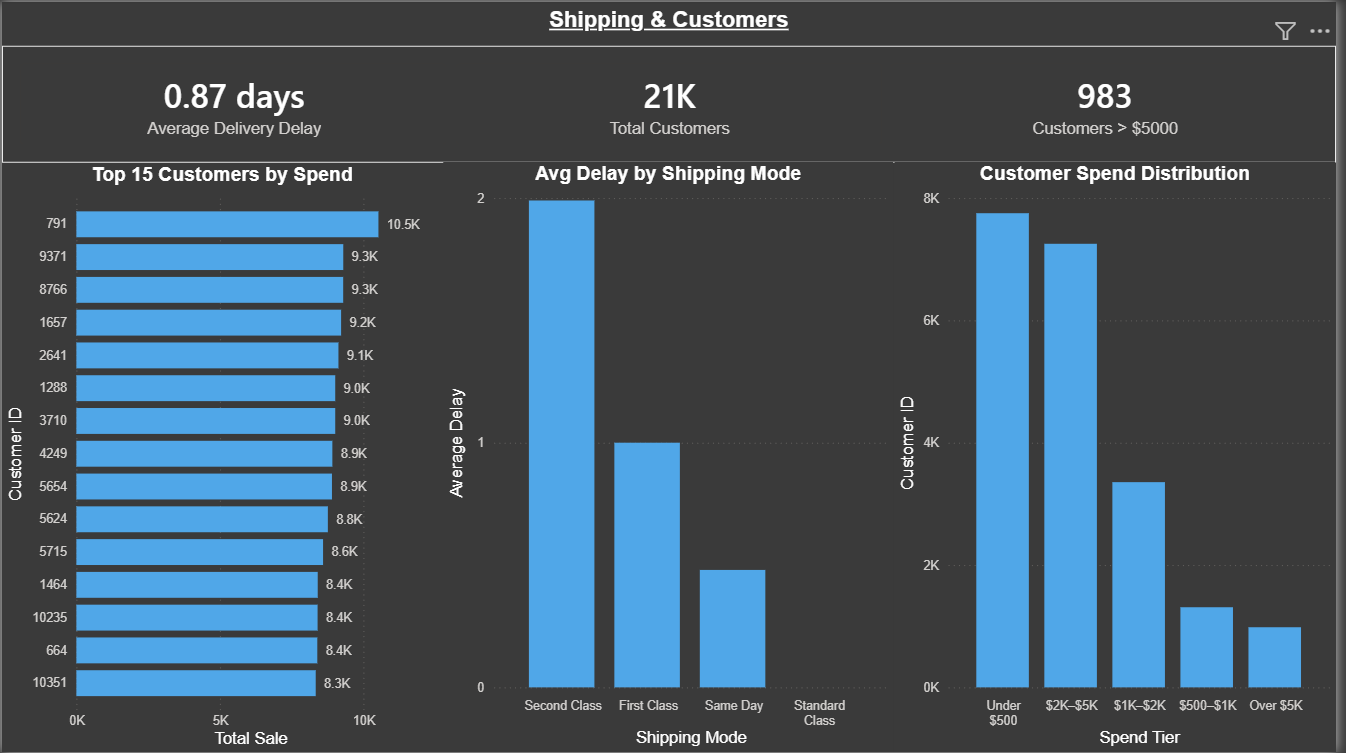

Layout of this report page (visuals, bound fields, positions):
{"tool":"powerbi","page":{"name":"Shipping and Customer","canvas":[1280,720],"ordinal":2},"visuals":[{"type":"textbox","box":[0,0,1280.4,42.4],"z":0},{"type":"cardVisual","fields":{"Data":["shipping_performance.Avg Delivery Delay","top_customers.Total Customers","top_customers.High Value Customers"]},"box":[0,42.4,1280.4,112.2],"z":1000},{"type":"clusteredColumnChart","title":"Avg Delay by Shipping Mode","fields":{"Category":["shipping_performance.Shipping Mode"],"Y":["Sum(shipping_performance.avg_delay)"]},"box":[423.4,153.8,432,566.2],"z":2000},{"type":"clusteredBarChart","title":"Top 15 Customers by Spend","fields":{"Category":["top_customers.customer_id"],"Y":["Sum(top_customers.total_sales)"]},"box":[0,154.4,423,566.3],"z":2001},{"type":"clusteredColumnChart","title":"Customer Spend Distribution","fields":{"Category":["top_customers.Spend Tier"],"Y":["CountNonNull(top_customers.customer_id)"]},"box":[856.6,153.8,423.4,566.2],"z":2002}]}

Visuals, with their boxes in screenshot pixels (x1, y1, x2, y2), scaled from the page's 1280x720 canvas onto the 1346x753 screenshot:
textbox: crop(0, 0, 1345, 44)
cardVisual - shipping_performance.Avg Delivery Delay x top_customers.Total Customers: crop(0, 44, 1345, 162)
"Avg Delay by Shipping Mode" clusteredColumnChart: crop(445, 161, 900, 752)
"Top 15 Customers by Spend" clusteredBarChart: crop(0, 161, 445, 752)
"Customer Spend Distribution" clusteredColumnChart: crop(901, 161, 1345, 752)
